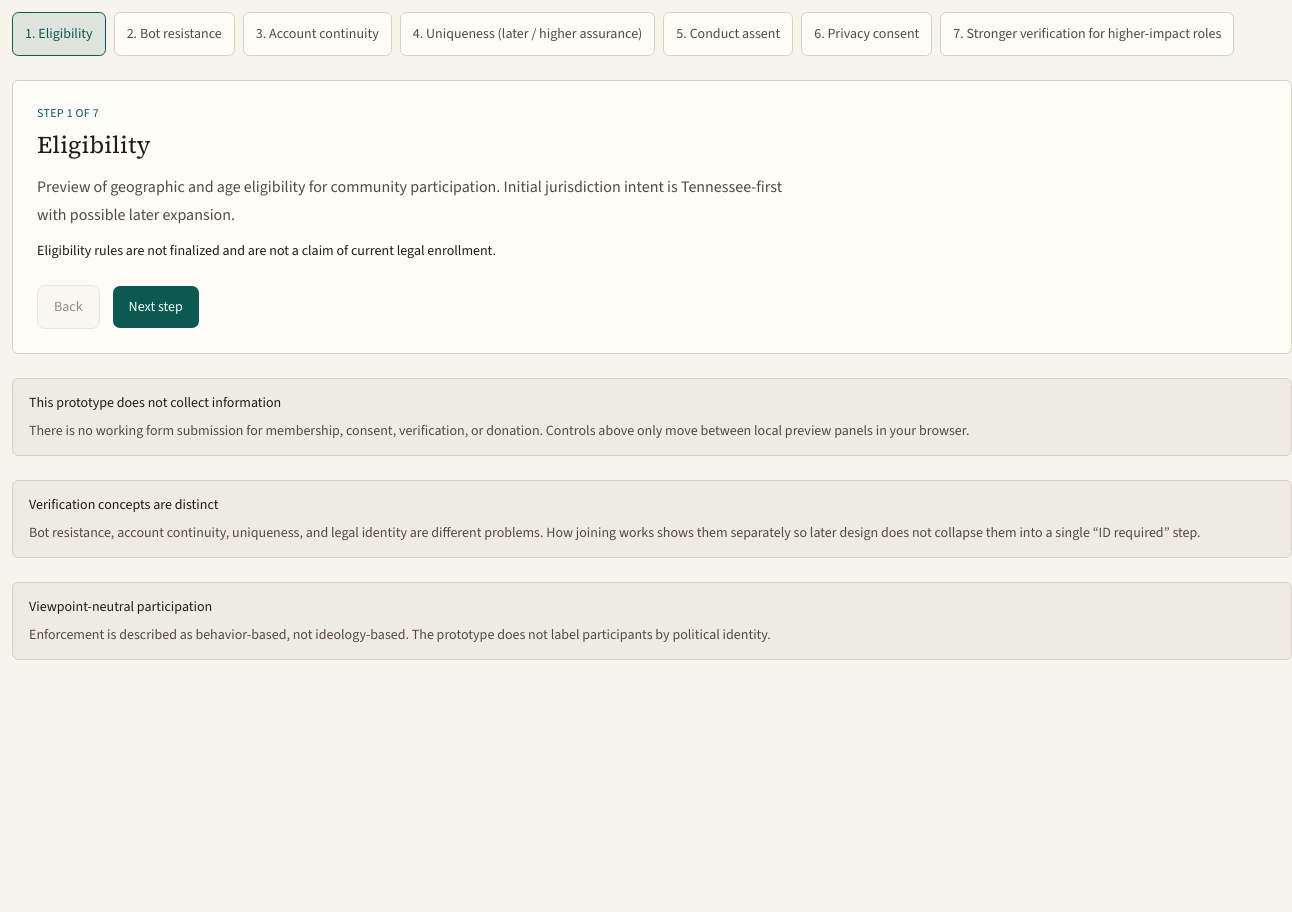
Test: JoinWalkthrough › shows every intended consent and verification step without a working submit
This screenshot has width=1292, height=912.
Check: the button "1. Eligibility" is shown, box [12,12,106,56]
Check: the button "2. Bot resistance" is shown, box [114,12,235,56]
Click the button "6. Privacy consent" at [867, 34], box [801,12,932,56]
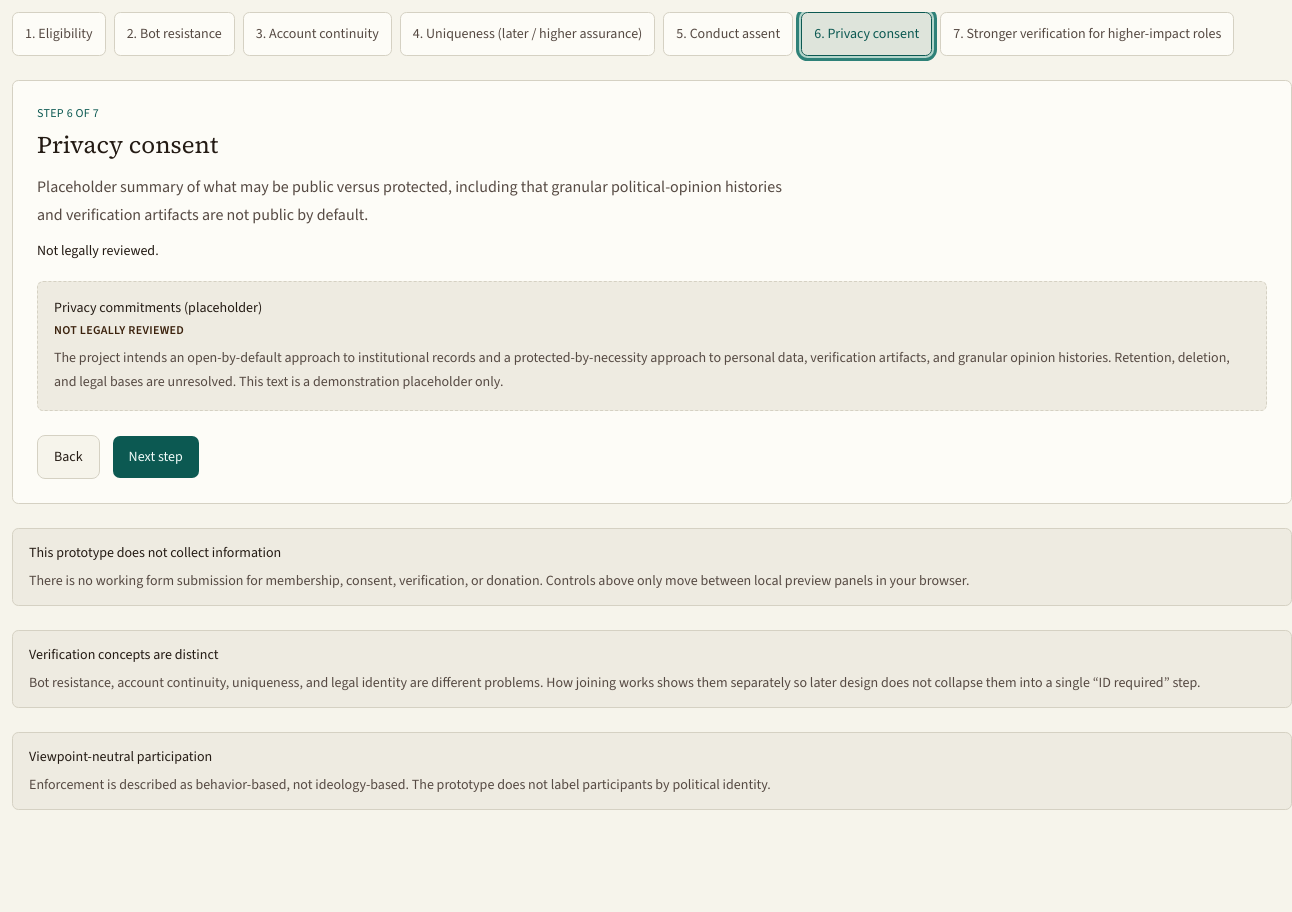
Check: the text "This prototype does not collect information" is shown, box [29,543,281,562]
Check: the text "Not legally reviewed" is shown, box [54,322,184,338]
Click the button "4. Uniqueness (later / higher assurance)" at [528, 34], box [400,12,655,56]
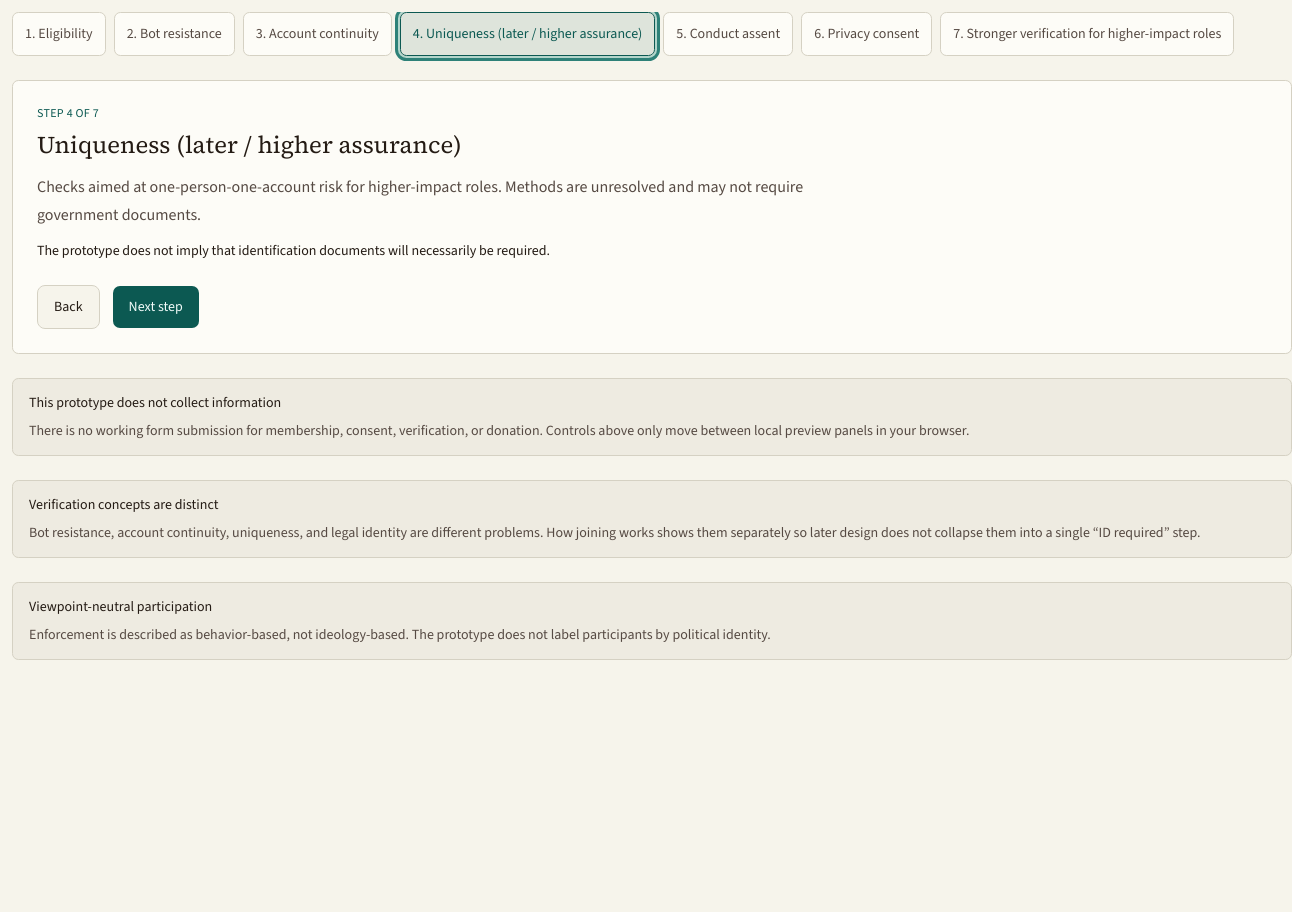
Check: the text "identification documents will necessarily be required" is shown, box [37,241,550,260]
Click the button "7. Stronger verification for higher-impact roles" at [1087, 34], box [940,12,1234,56]
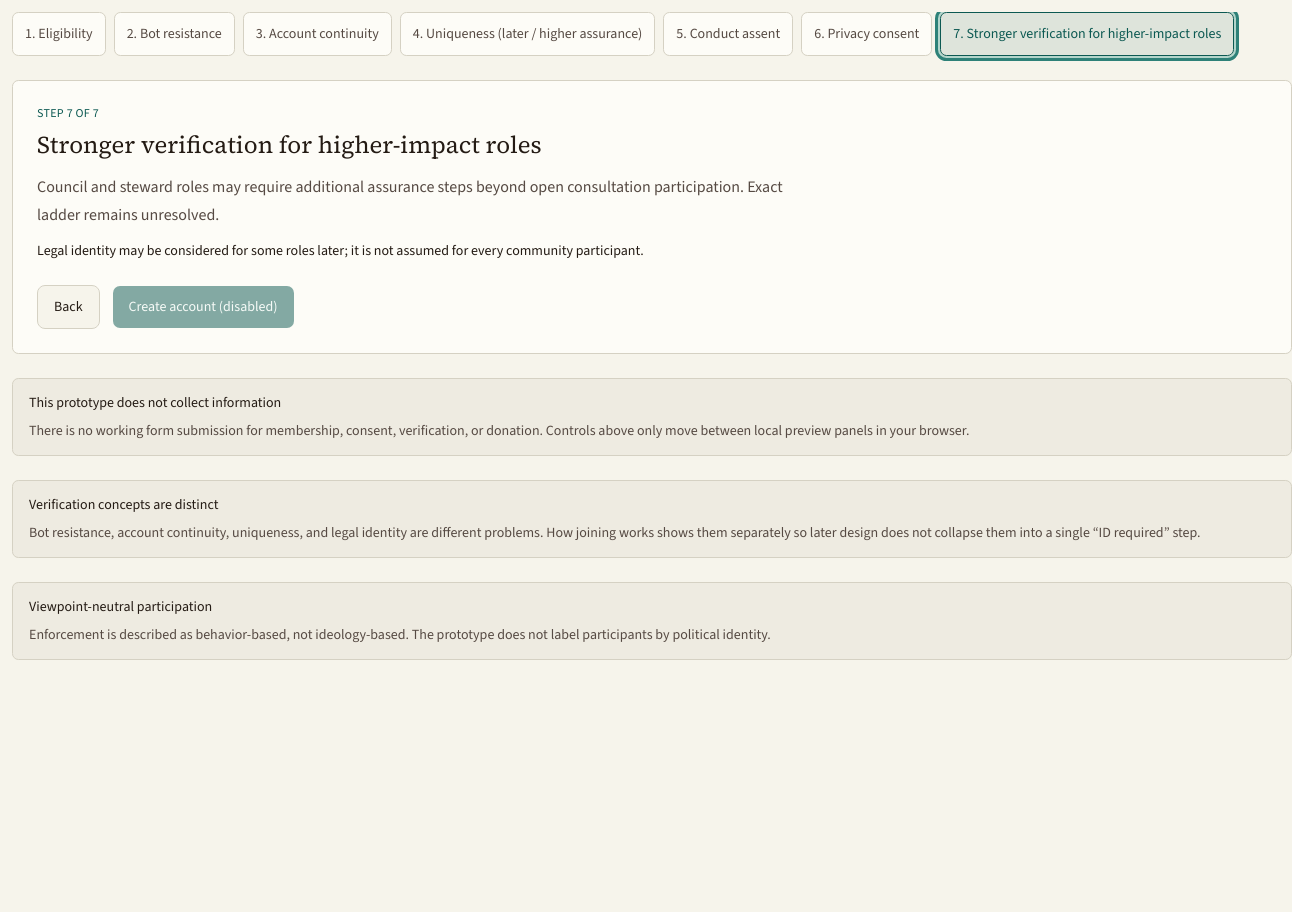
Check: the button "Create account (disabled)" is disabled, box [112,285,294,329]
